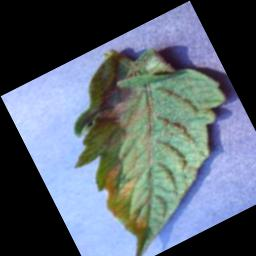Leaf_Mold: (91, 158, 162, 243)
